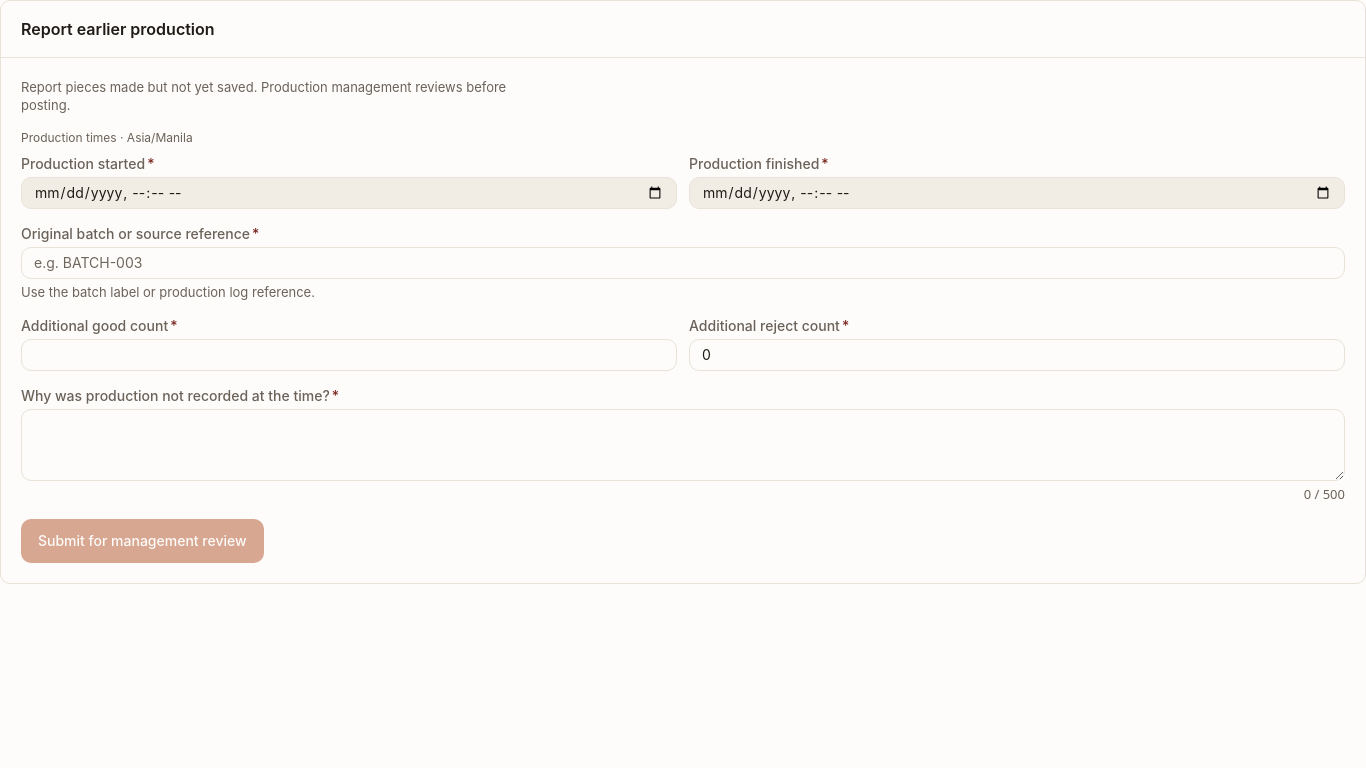
Test: late production reports › retries an uncertain worker submission with the same frozen payload and key
The image size is (1366, 768).
Step 1. Type "BATCH-17" into the field labelled "Original batch or source reference*" → (683,263), box [22,248,1344,278]
Step 2. Type "2026-10-07T08:00" into the field labelled "Production started*" → (349,193), box [22,178,676,208]
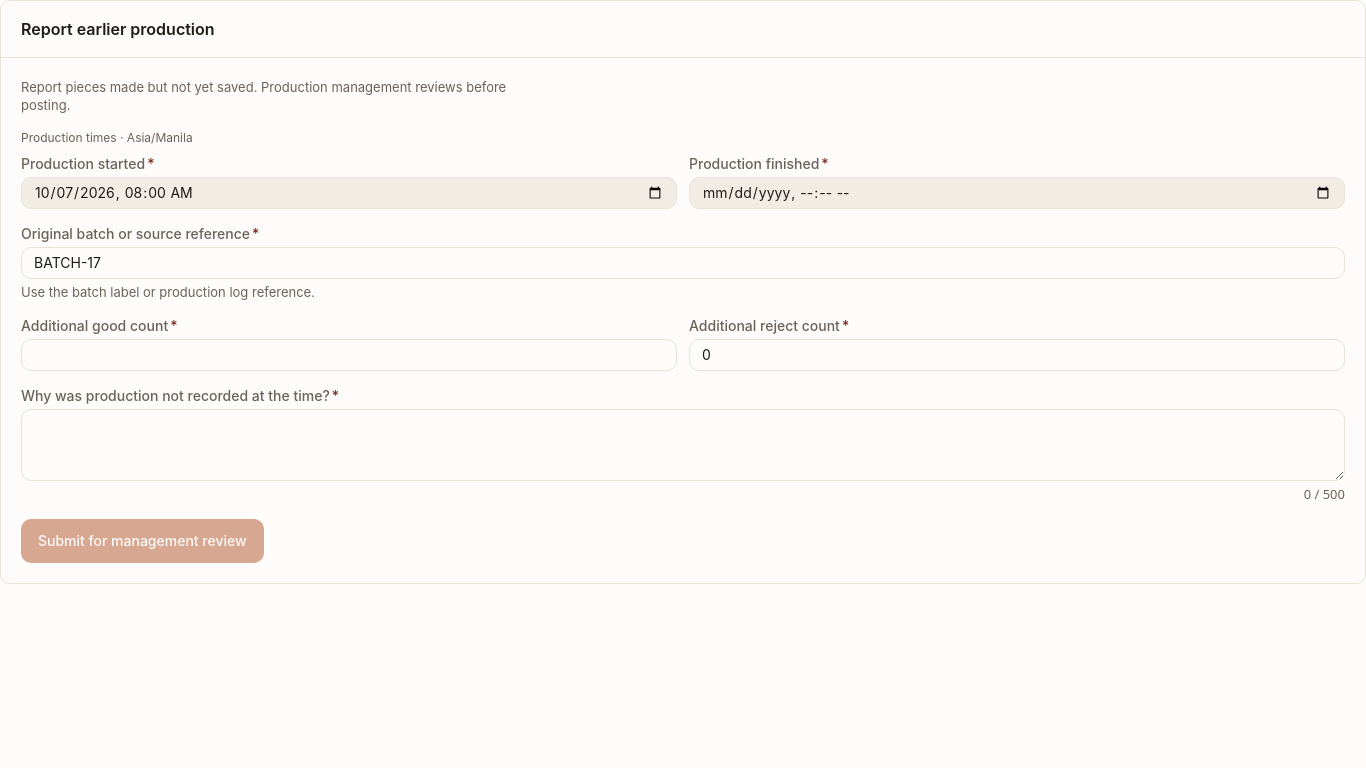
Step 3. Type "2026-10-07T10:00" into the field labelled "Production finished*" → (1017,193), box [690,178,1344,208]
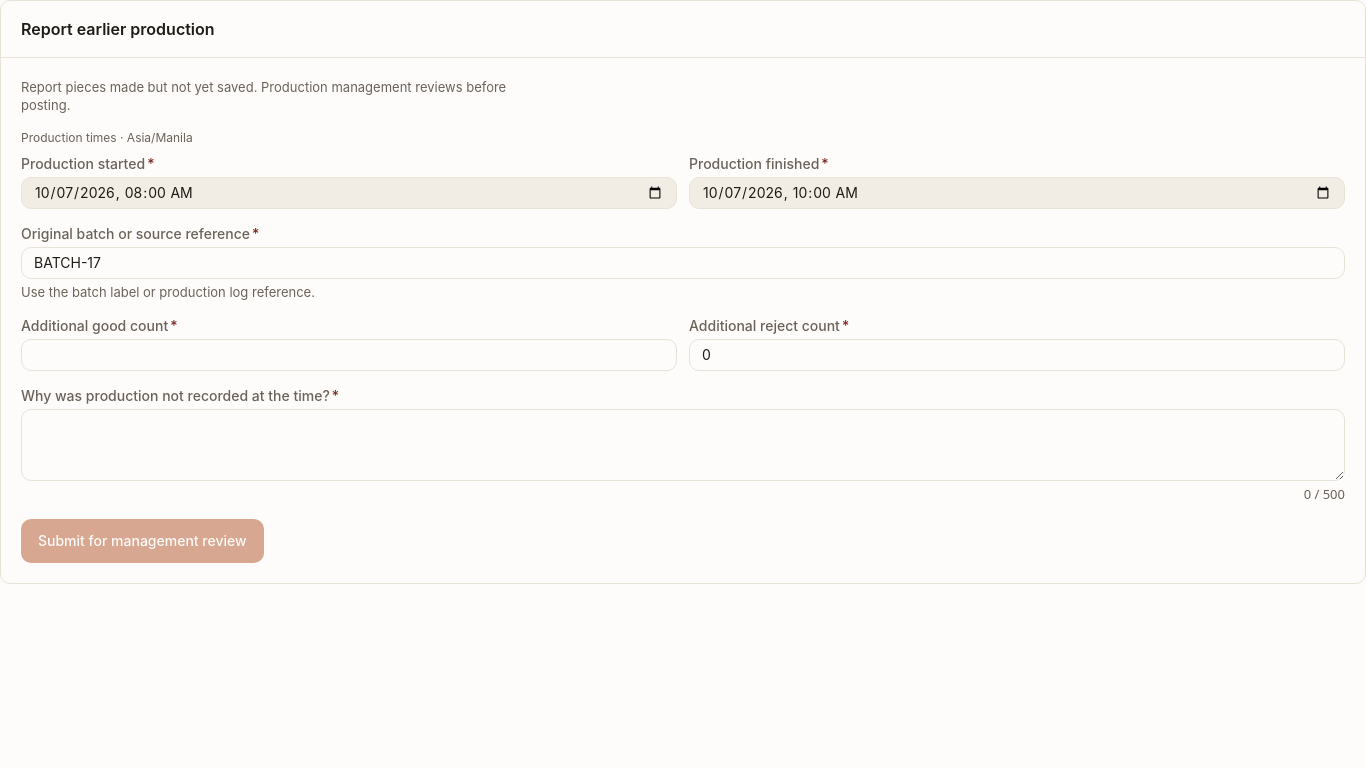
Step 4. Type "6" into the number field labelled "Additional good count*" → (349,355), box [22,340,676,370]
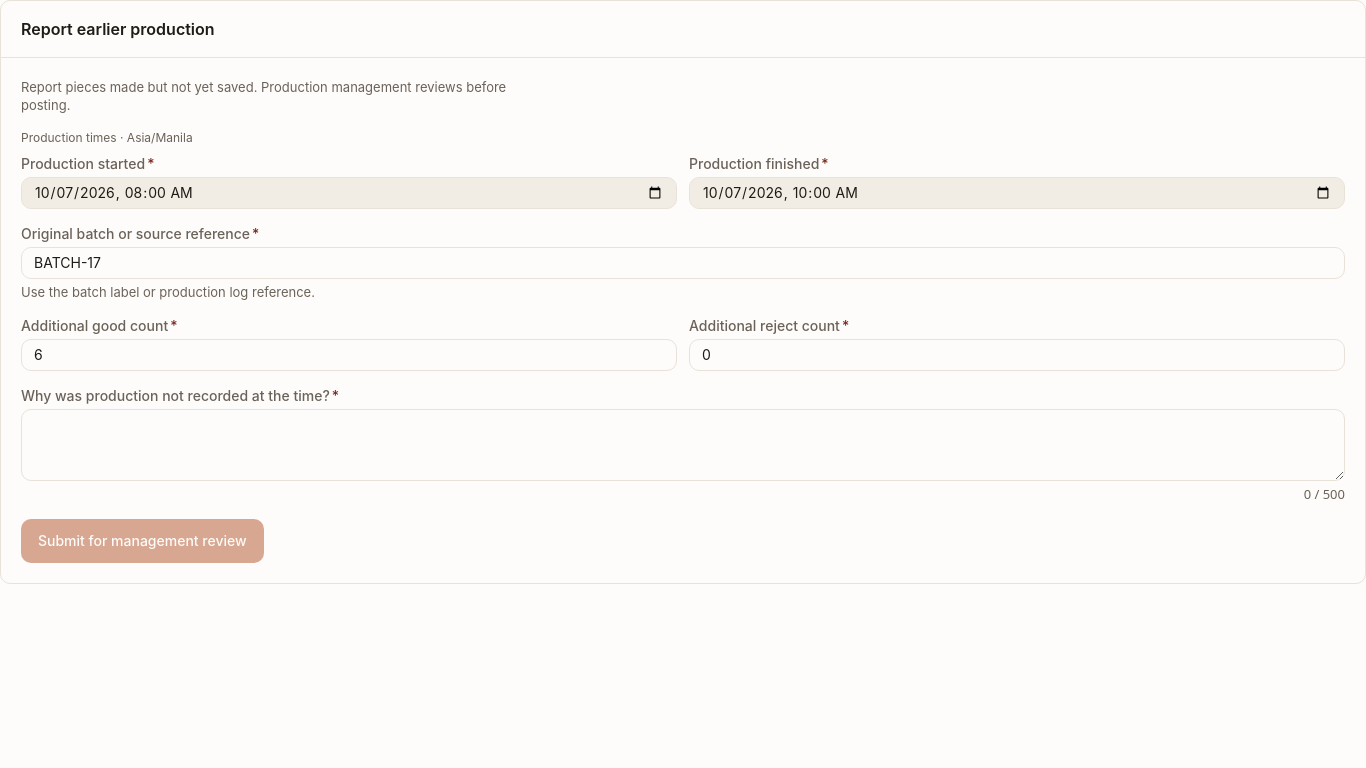
Step 5. Type "Tablet was offline." into the text box labelled "Why was production not recorded at the time?*" → (683,445), box [21,409,1345,481]
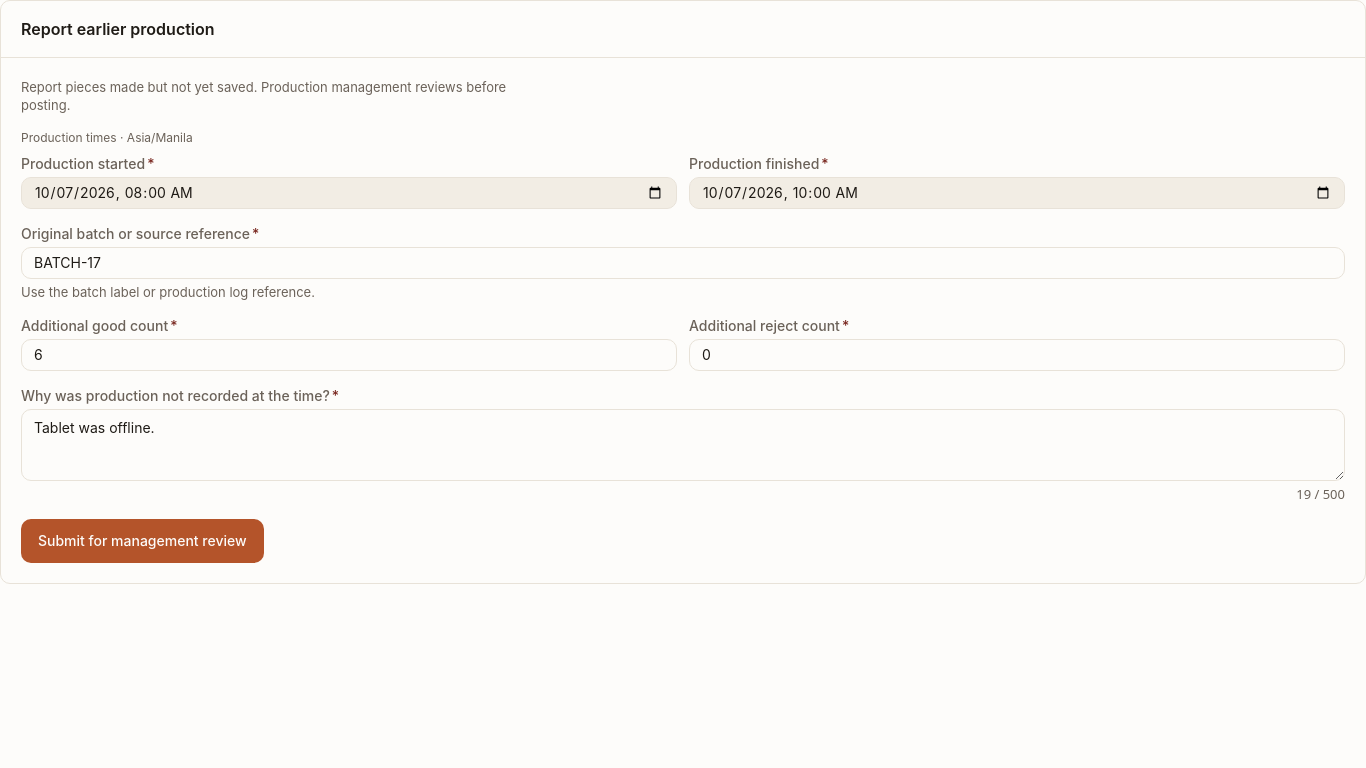
Step 6. Click the button "Submit for management review" → (142,541), box [21,519,264,563]
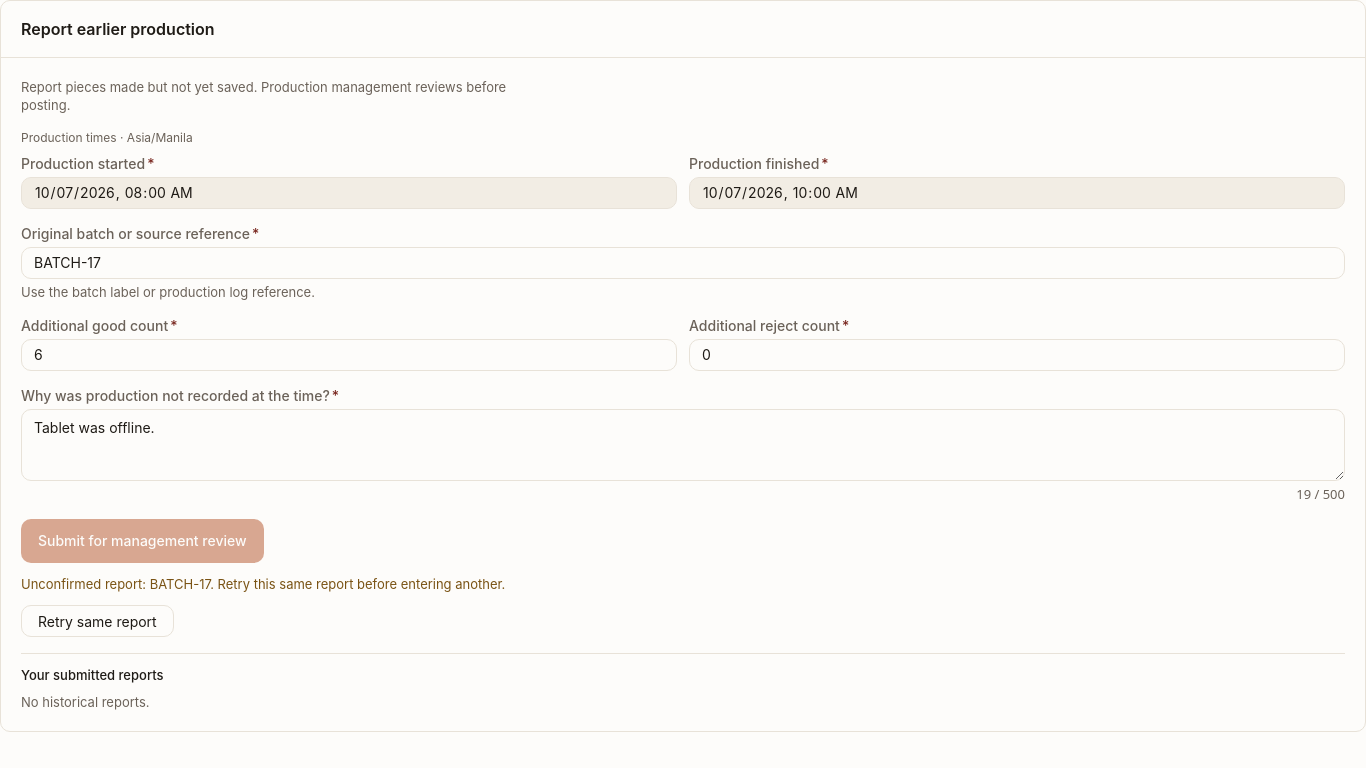
Step 7. Click the button "Retry same report" → (97,621), box [21,605,174,637]
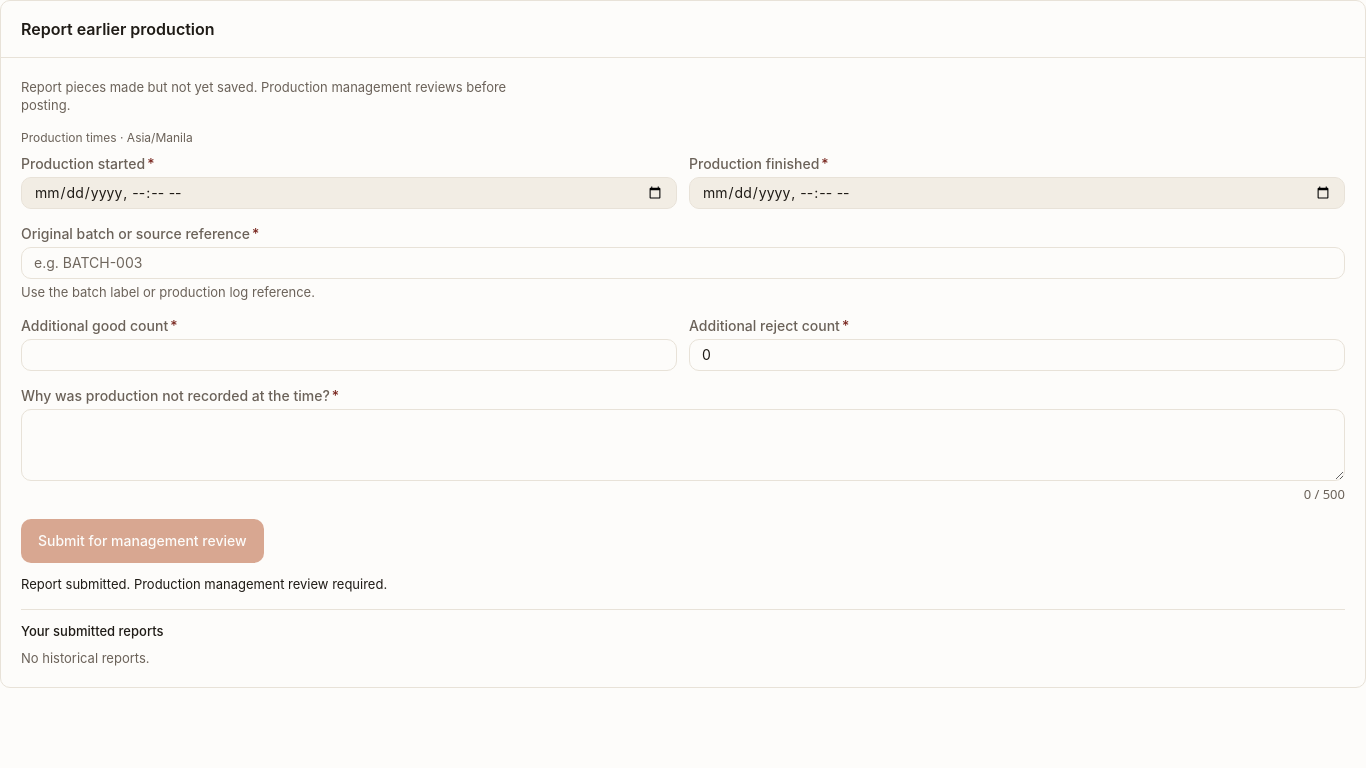
Result: the text "Report submitted. Production management review required." is shown at [21,576,387,592]
